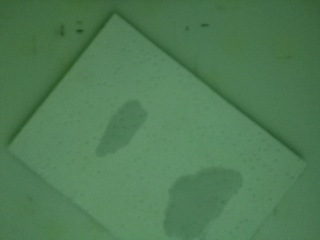Water_detected: (177, 174, 230, 218), (101, 102, 142, 155)
